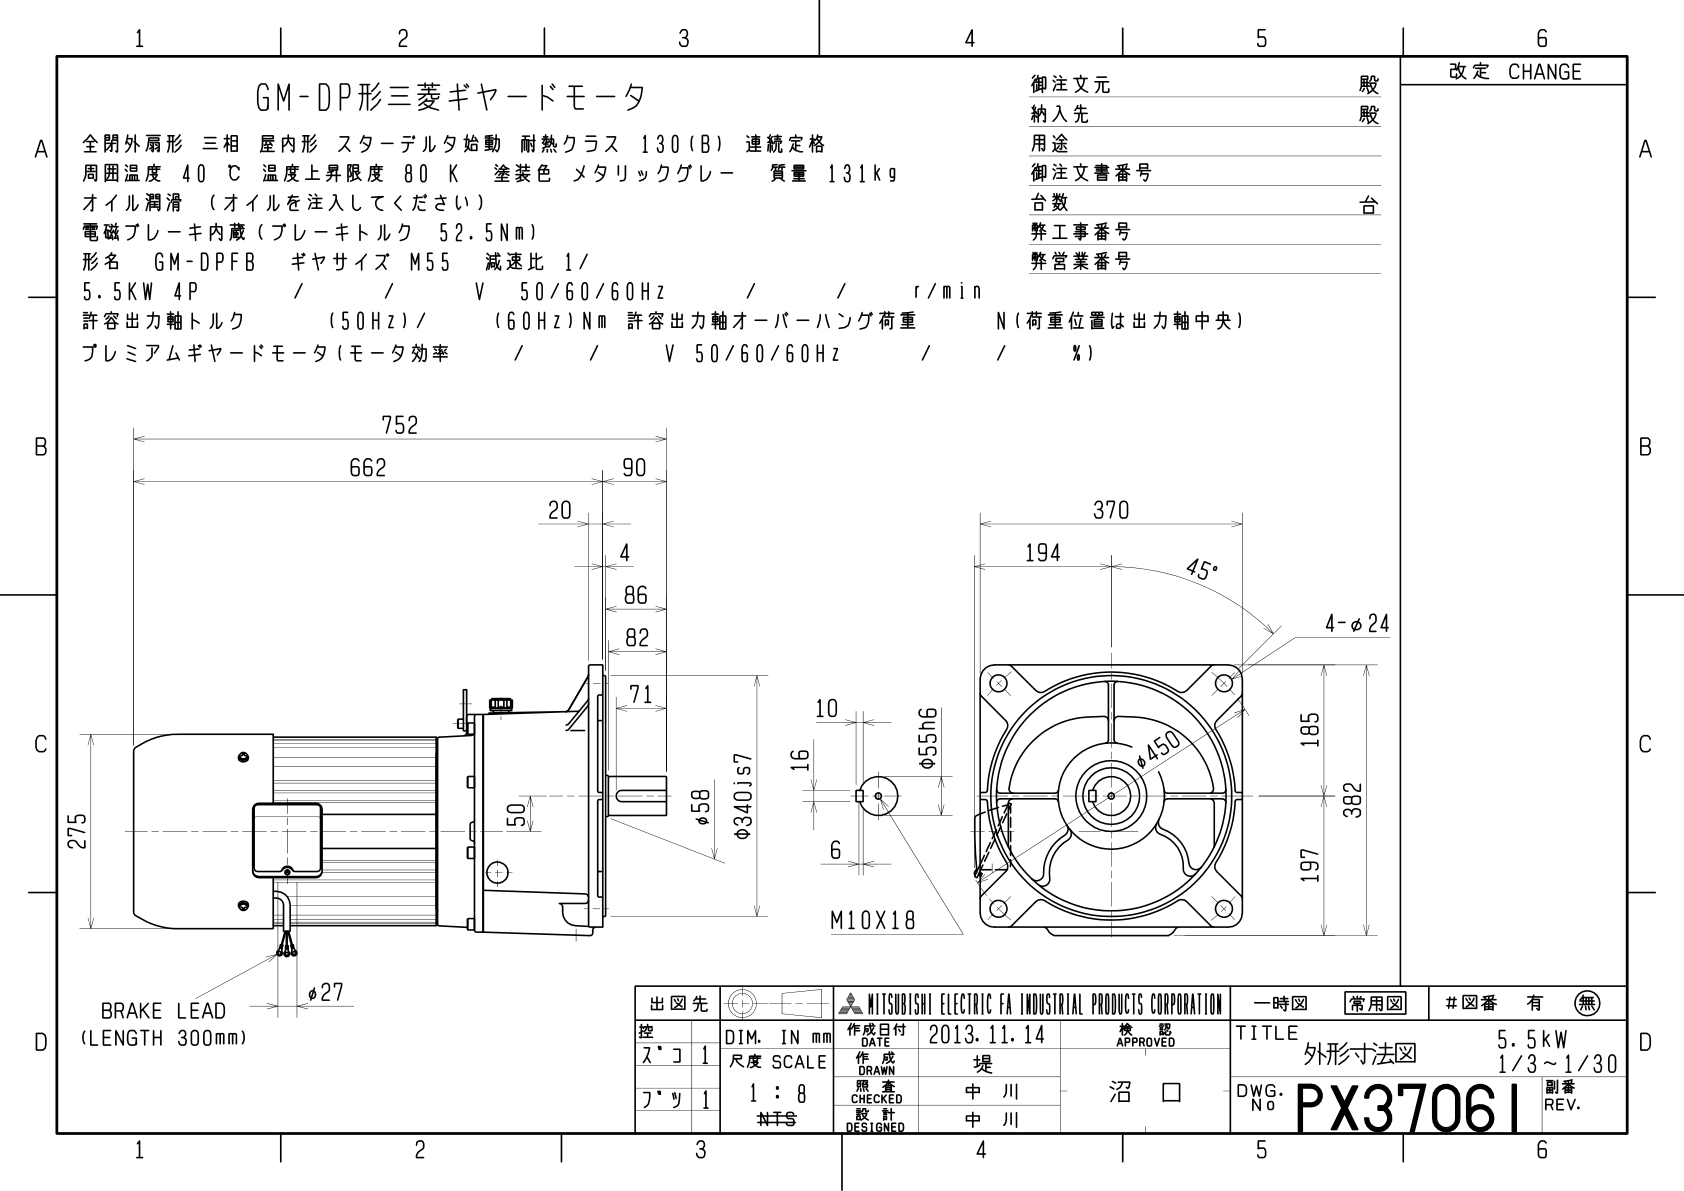GM_DP_屋内_三相_フランジ: (61, 382, 1393, 971)
